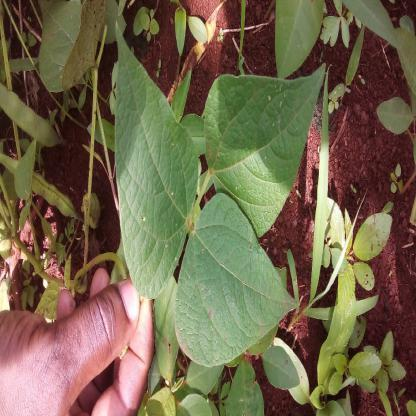Beans_Angular_LeafSpot: (176, 192, 295, 371), (198, 73, 325, 235)
